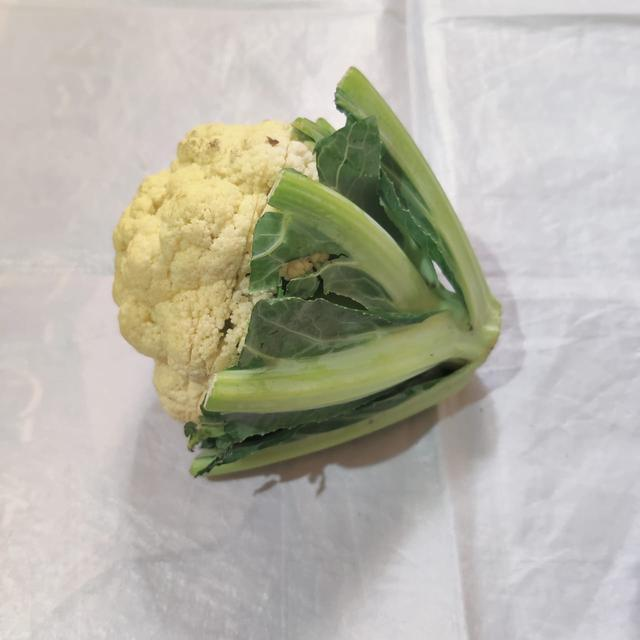Organik: (80, 41, 554, 488)
